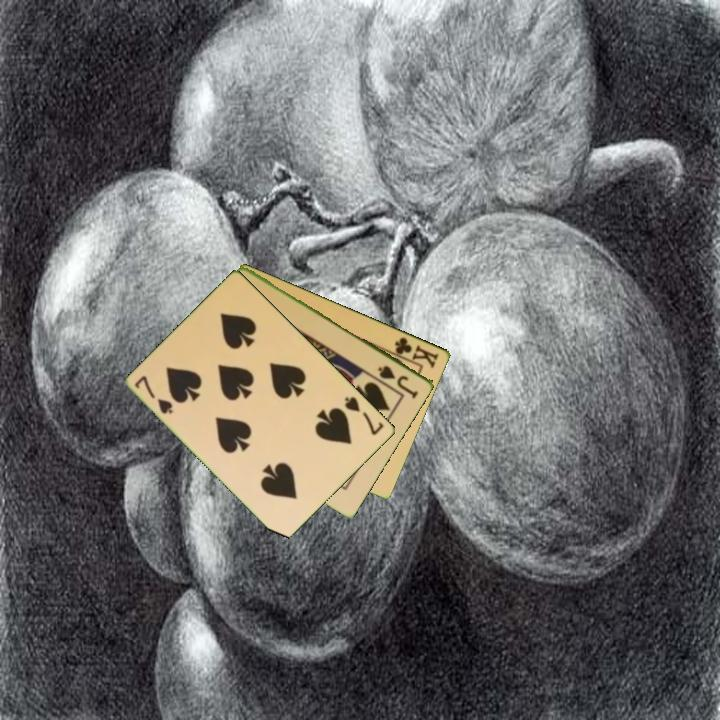7s: (341, 393, 387, 438), (131, 372, 177, 417)
Js: (375, 362, 421, 400)
Kc: (385, 333, 442, 371)
